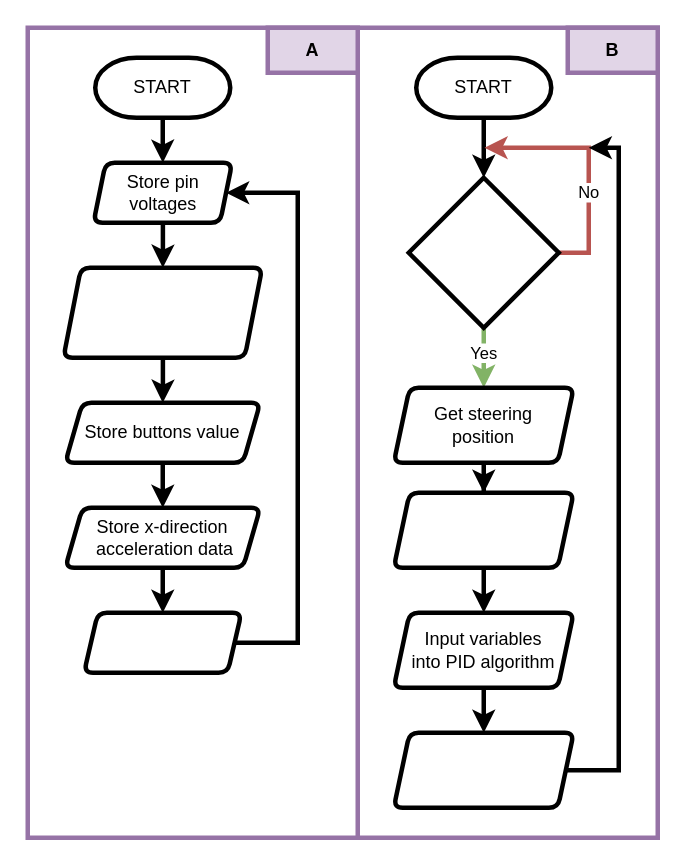
Some shapes in this 686 by 867 pixel diagram are drawn without their labels. Here are the shapes that lost their labels. From the top down, the centre of each, then its label:
At (483,252): "Message received?".
At (162,312): "Convert pin values to appropriate gain values".
At (483,529): "Determine steering error".
At (162,642): "Radio store values".
At (483,769): "Set pin values".
